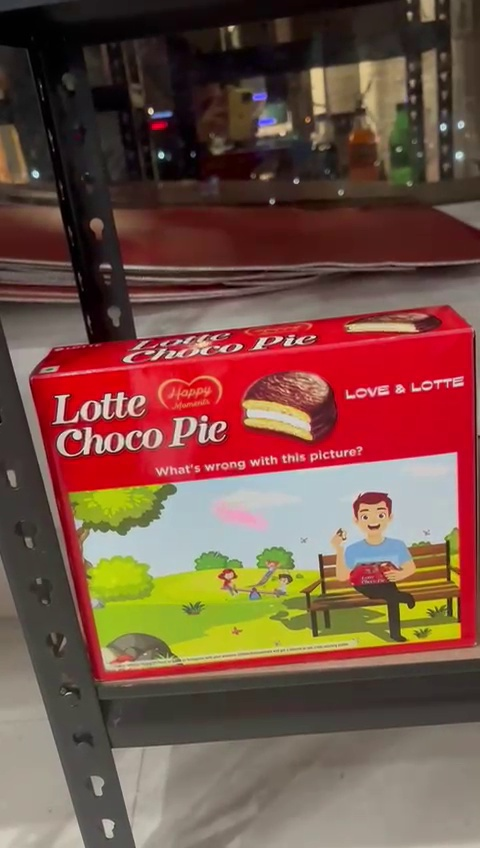Lotte Chocopie: (34, 304, 480, 664)
